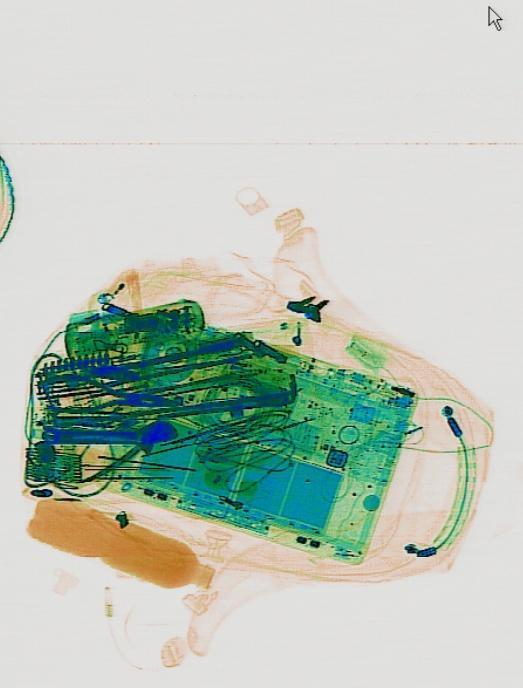Pliers: (42, 372, 178, 422)
